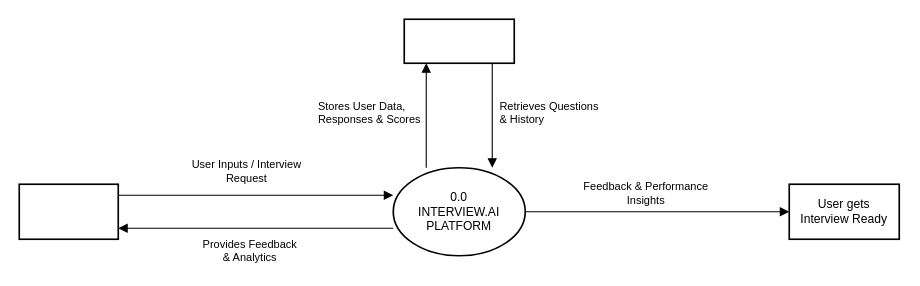
Image size: 920x286. Some labels were removed from this diagram. Each missing label, with the centre of its shape:
"Database" belongs at point 459,41.
"User (Candidate)" belongs at point 68,211.
